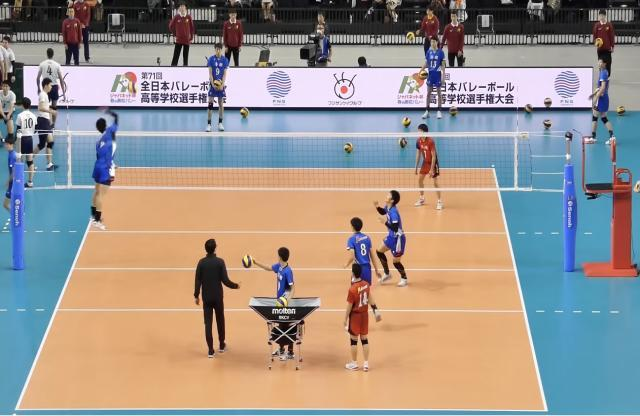spike: (84, 100, 124, 238)
